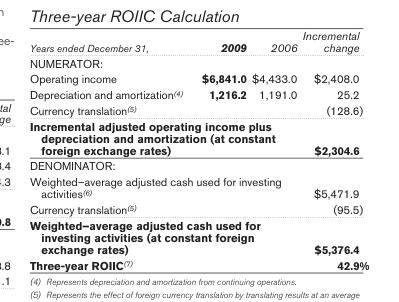table: (28, 28, 368, 271)
table column: (28, 28, 191, 271), (298, 28, 368, 271), (191, 28, 248, 271), (248, 28, 298, 271)
table column header: (28, 28, 368, 54)
table projected row header: (28, 54, 368, 70), (28, 157, 368, 173)
table row: (28, 117, 368, 157), (28, 216, 368, 256), (28, 173, 368, 201), (28, 28, 368, 54), (28, 54, 368, 70), (28, 70, 368, 86), (28, 101, 368, 117), (28, 157, 368, 173), (28, 86, 368, 101), (28, 201, 368, 216), (28, 256, 368, 271)
table spanning cell: (28, 117, 298, 157), (28, 216, 298, 256), (28, 173, 298, 201)
